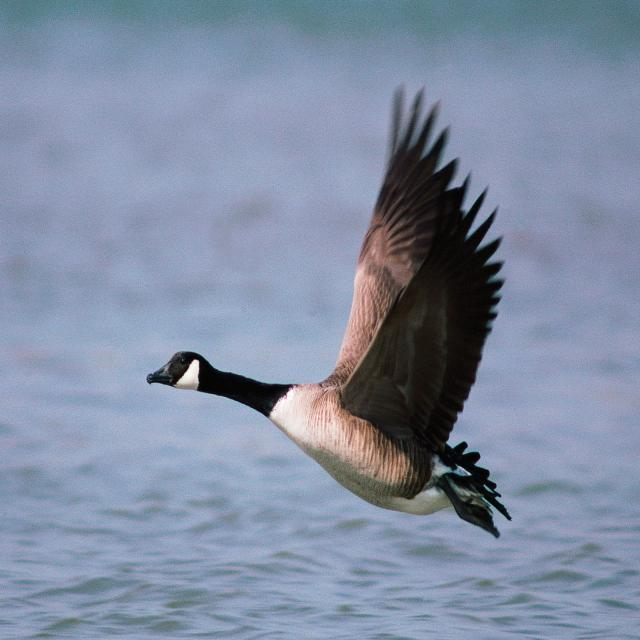Goose: (142, 83, 520, 554)
